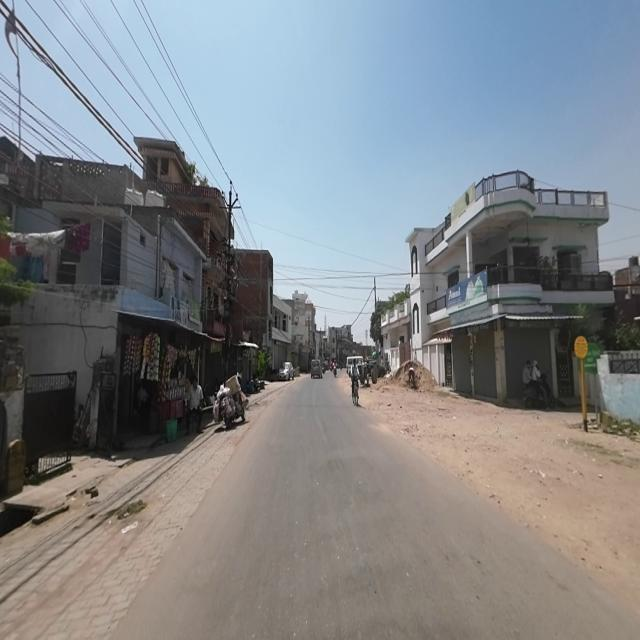Garbage: (116, 498, 148, 520)
